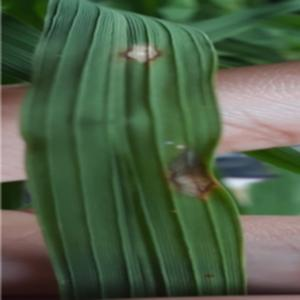1 RiceBlast: (143, 136, 217, 209), (105, 29, 171, 80)
